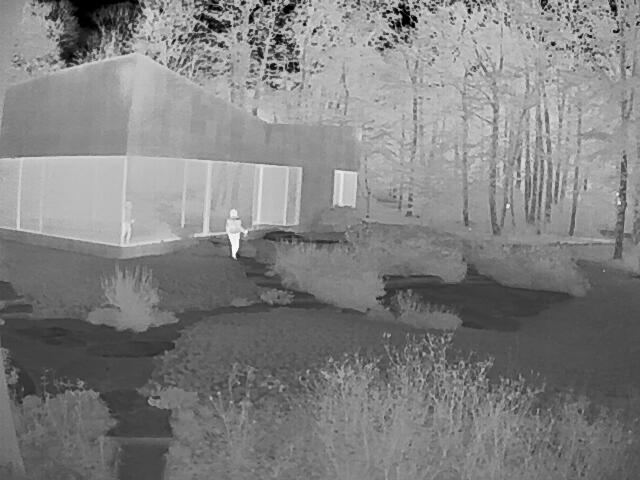person: (222, 208, 248, 259), (122, 199, 134, 245)
